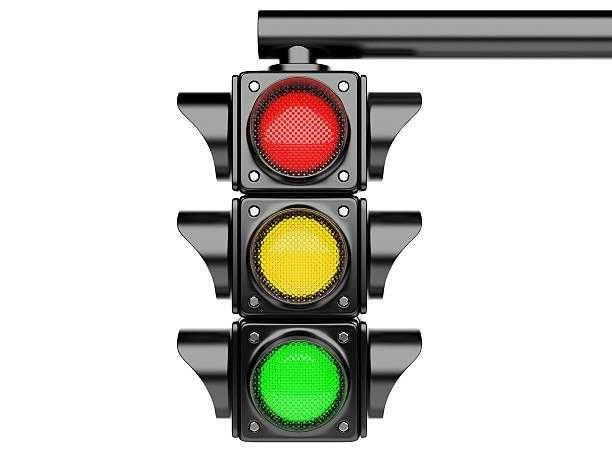green: (236, 315, 361, 439)
red: (241, 74, 354, 193)
